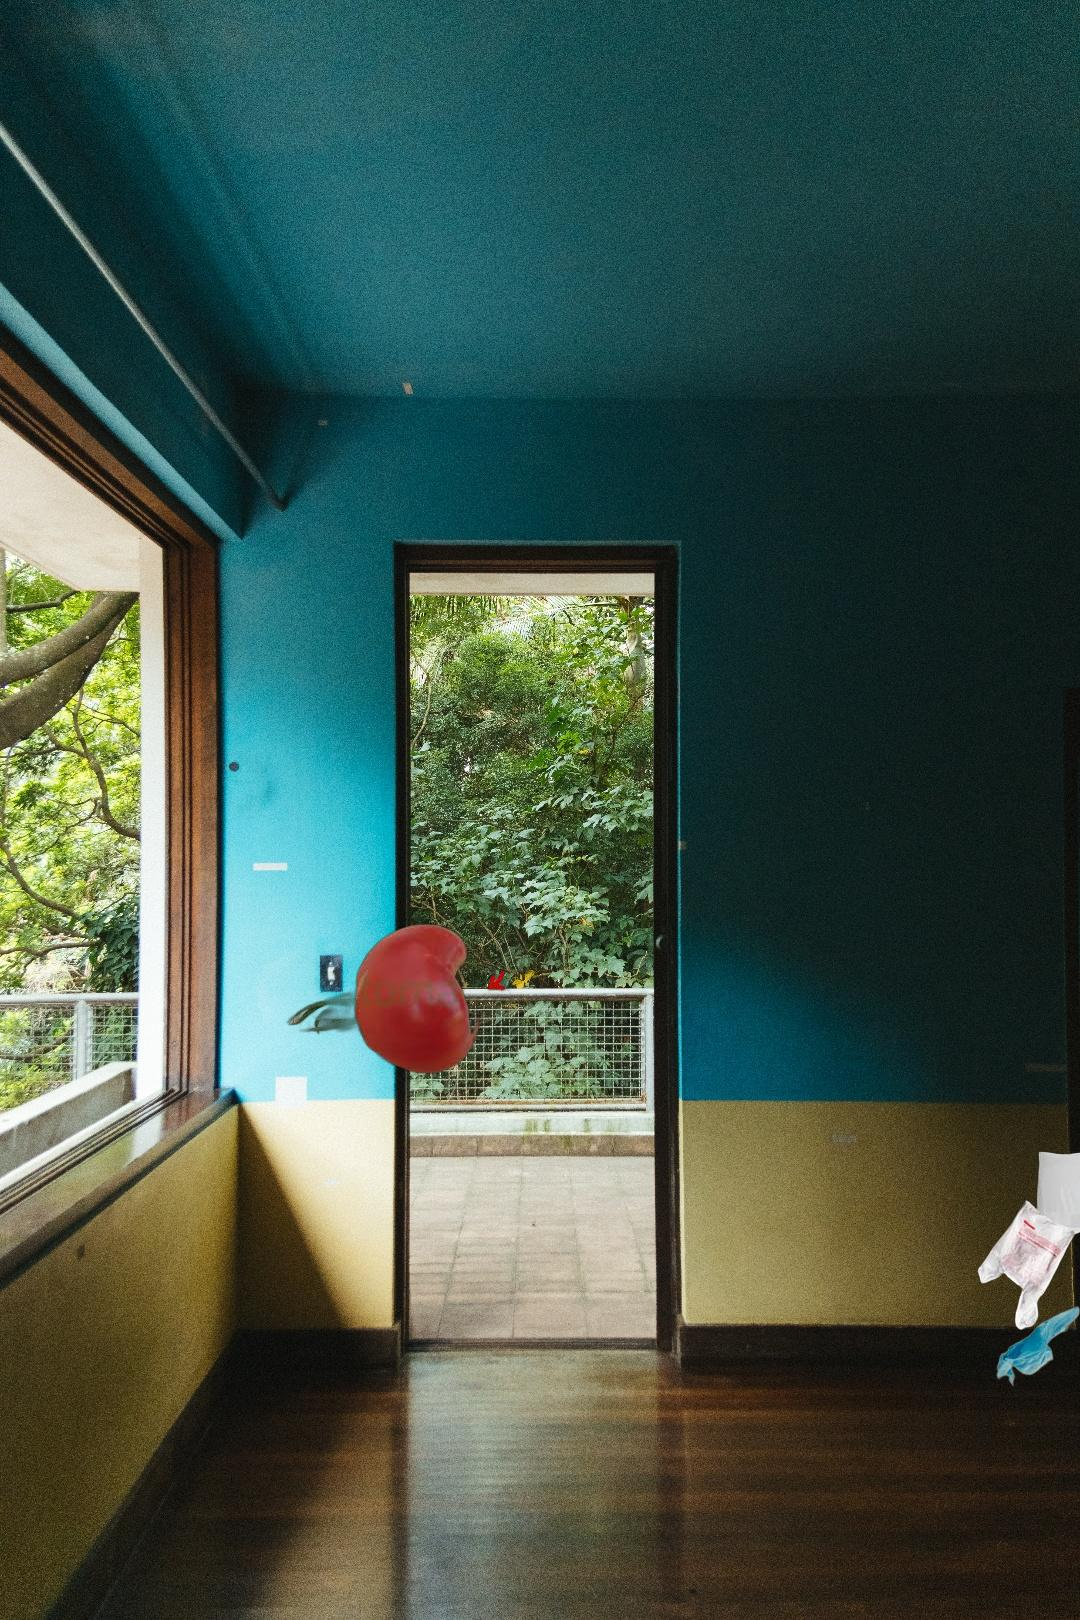biological: (284, 921, 530, 1078)
plastic-bag: (976, 1150, 1080, 1390)
